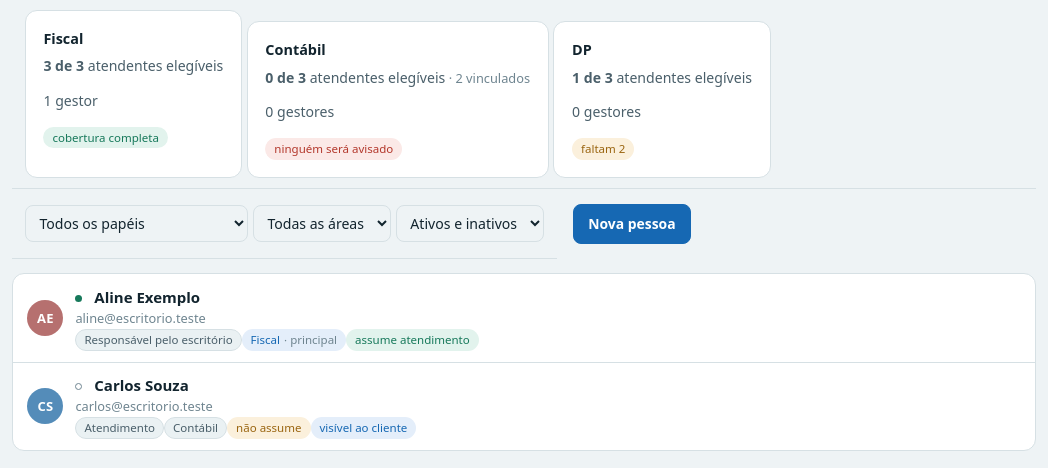
Test case: lista › filtra por área
The width and height of the screenshot is (1048, 468).
Expected: the text "Aline Exemplo" is shown, [75,287,200,307]
Select "DP" in the dropdown named "Área": (322, 223) [253,205,391,242]
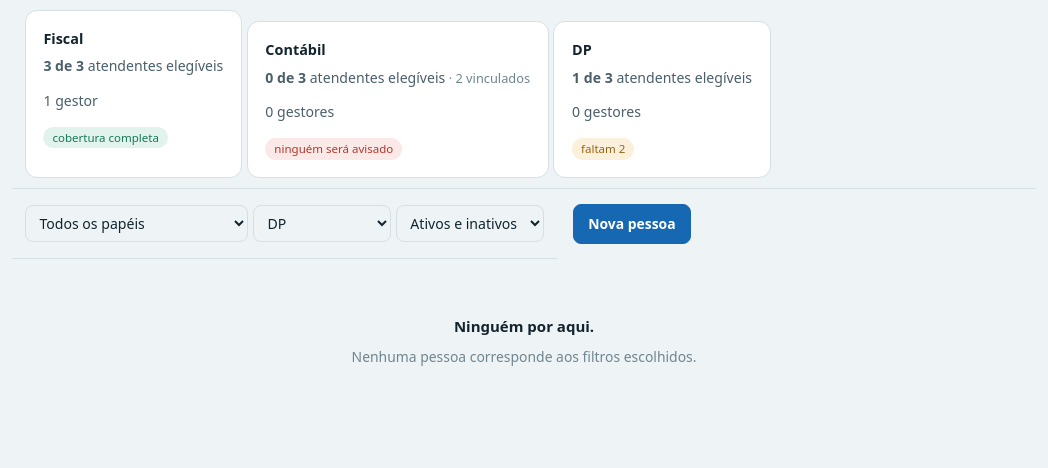
Expected: the text "Nenhuma pessoa corresponde aos filtros escolhidos." is shown, [352,346,696,368]
